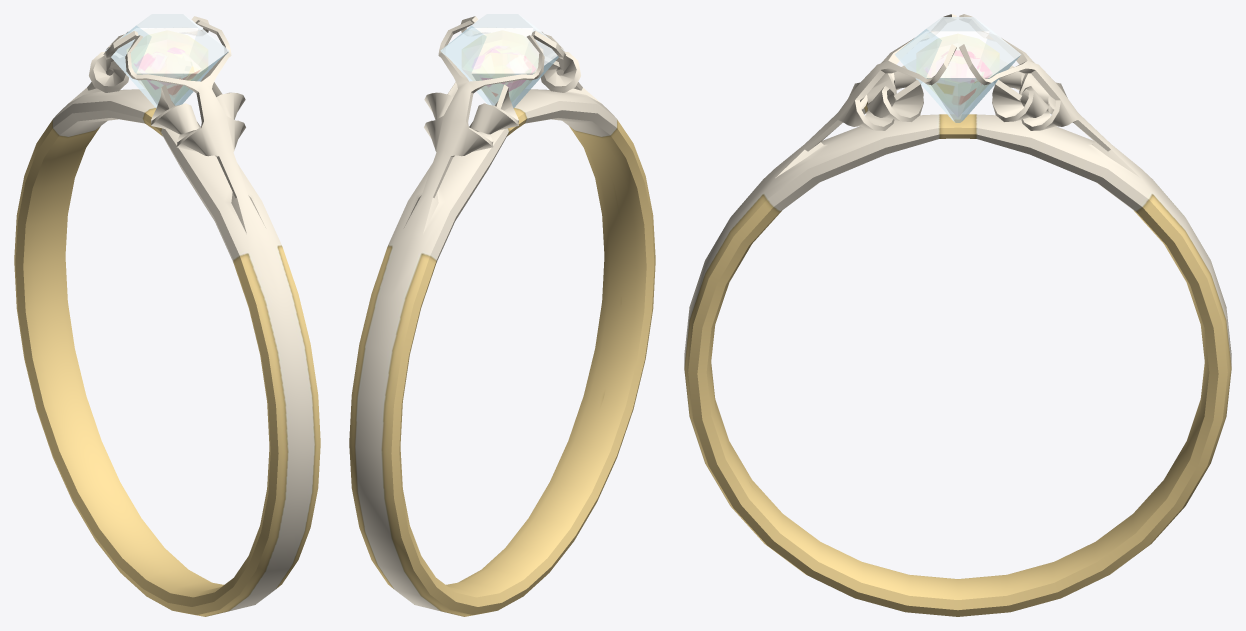
Rendered from anel-solitario.glb.
3 views of the same model, side by side, from view 1: azimuth 30°, elevation 25°; view 2: azimuth 150°, elevation 25°; view 3: azimuth 270°, elevation 25° (orthographic). The views are drawn at different scales.
Parts seen in each view (by area): view 1: Thering; view 2: Thering; view 3: Thering.
Part boxes in pixels (box(x1,y1,x2,y2)): Thering: box(14, 14, 320, 616); Thering: box(349, 14, 655, 616); Thering: box(684, 14, 1231, 616).
Bounding box in the file's own units: 0.3739 × 2 × 1.71.
1 material, 1 textured.
